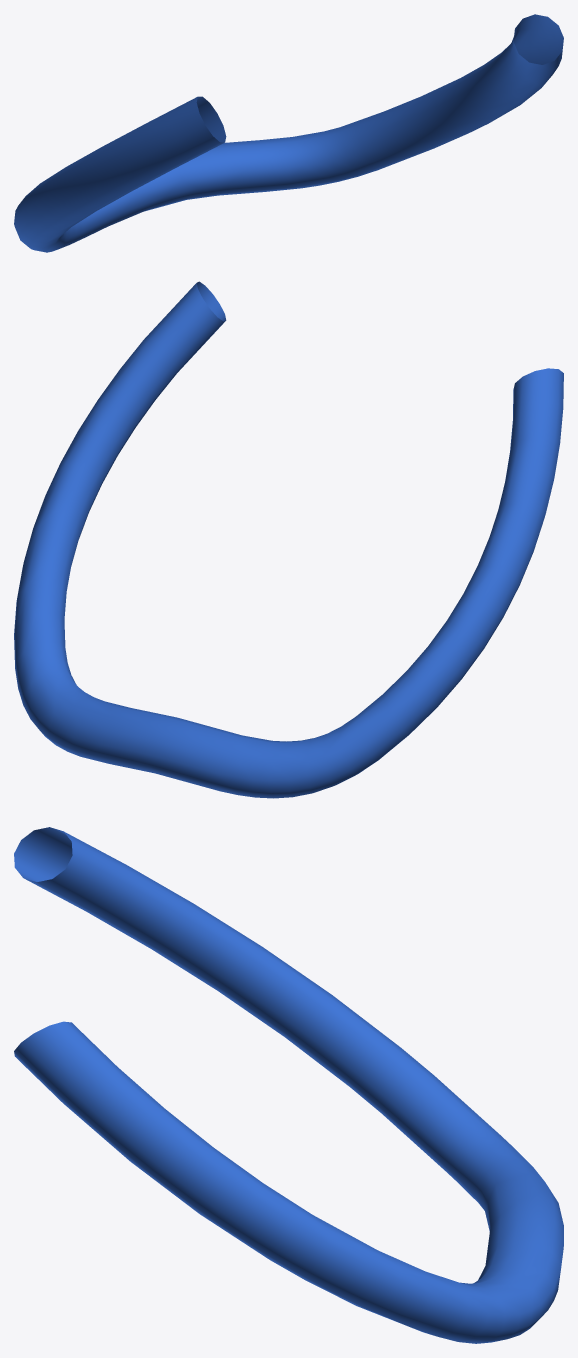
Rendered from circulatorio-posterior-intercavernous-sinus.glb.
3 renders of one model, top to bottom at view 1: azimuth 30°, elevation 25°; view 2: azimuth 150°, elevation 25°; view 3: azimuth 270°, elevation 25°, orthographic. The views are drawn at different scales.
Parts seen in each view (by area): view 1: Posterior intercavernous sinus; view 2: Posterior intercavernous sinus; view 3: Posterior intercavernous sinus.
Part boxes in pixels (x1,y1,x2,y2): Posterior intercavernous sinus: (14,14,563,252); Posterior intercavernous sinus: (14,281,563,798); Posterior intercavernous sinus: (14,827,563,1343).
Bounding box in the file's own units: 0.0116 × 0.00731 × 0.0105.
